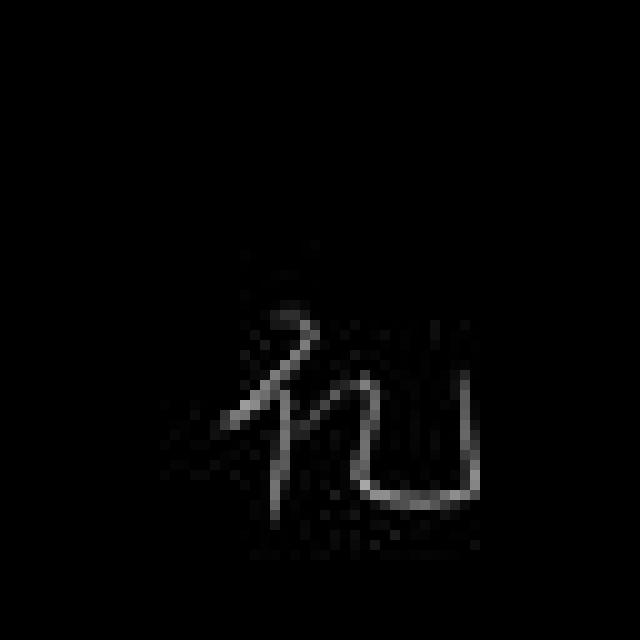100000 -a hundred thousand-: (216, 310, 494, 529)
